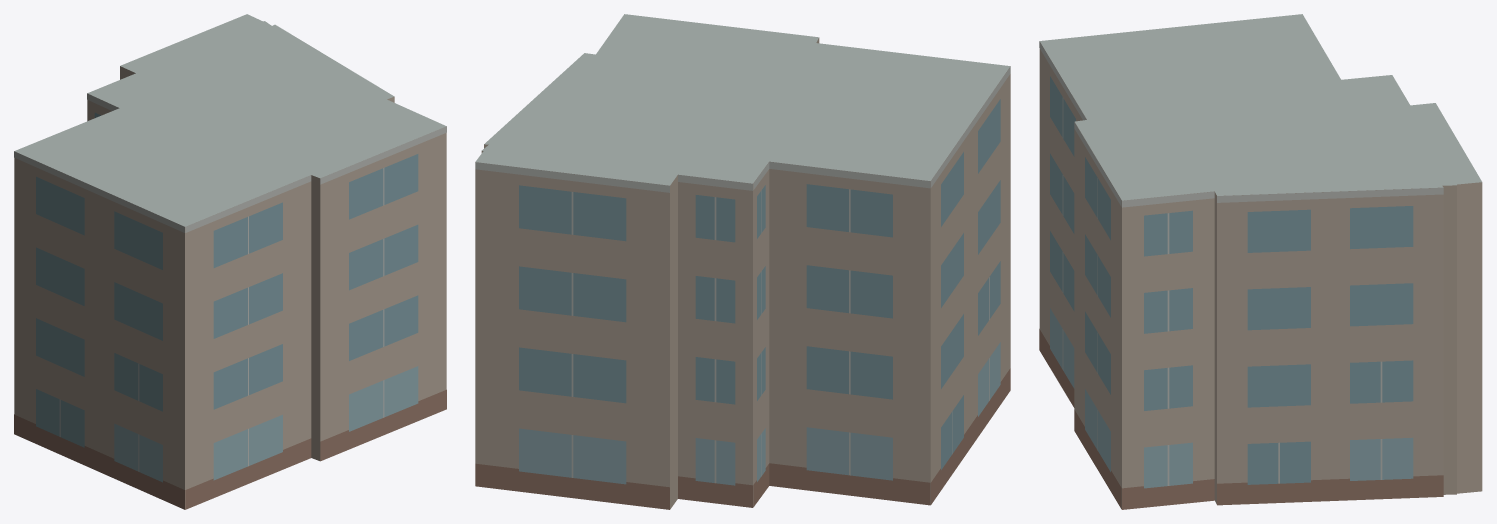
Rendered from survey-upis-32957215.glb.
The picture shows the model from 3 angles, left to right: view 1: azimuth 30°, elevation 25°; view 2: azimuth 150°, elevation 25°; view 3: azimuth 270°, elevation 25°; orthographic projection. The views are drawn at different scales.
Parts seen in each view (by area): view 1: survey-upis-32957215.tmp; view 2: survey-upis-32957215.tmp; view 3: survey-upis-32957215.tmp.
Boxes of the visible parts, bbox=[...] form: survey-upis-32957215.tmp: bbox=[14, 14, 446, 509]; survey-upis-32957215.tmp: bbox=[475, 14, 1010, 509]; survey-upis-32957215.tmp: bbox=[1039, 14, 1482, 509].
Bounding box in the file's own units: 14.12 × 10.9 × 14.16.
